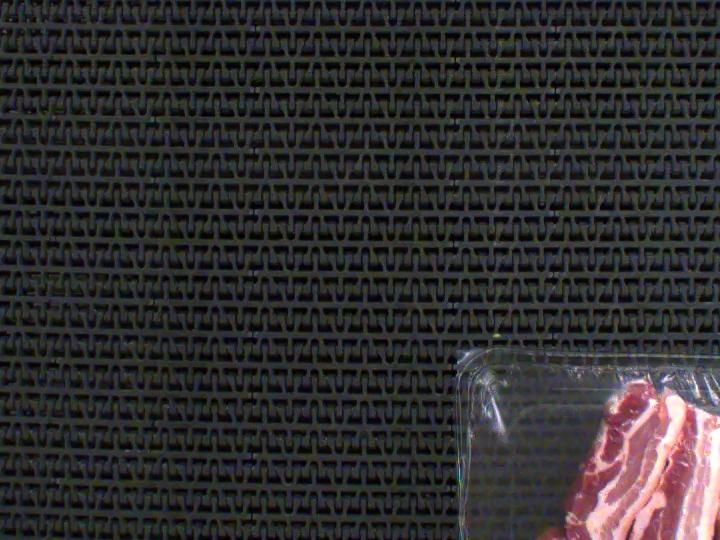unsealed: (482, 368, 720, 540)
